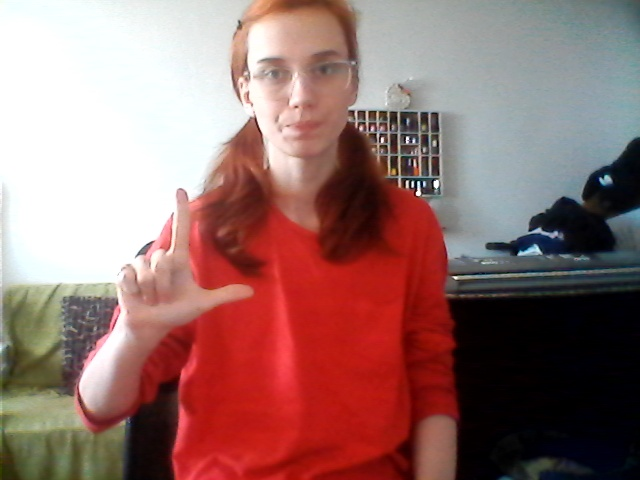l: (112, 186, 258, 332)
